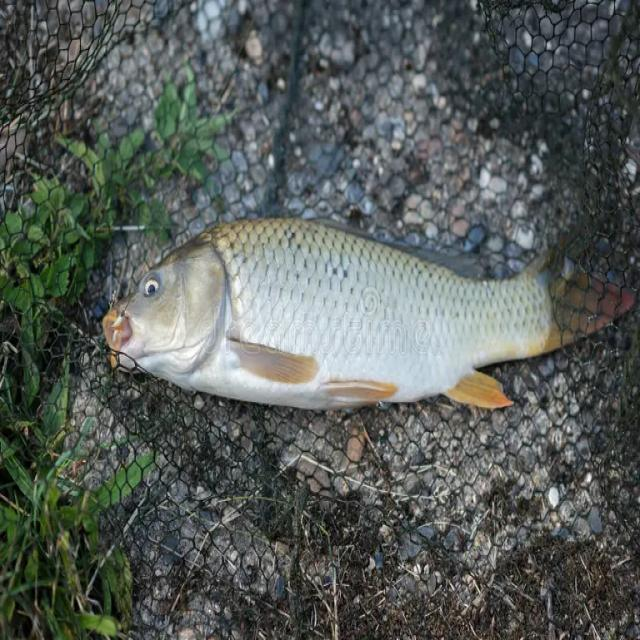Common carp: (104, 215, 559, 409)
